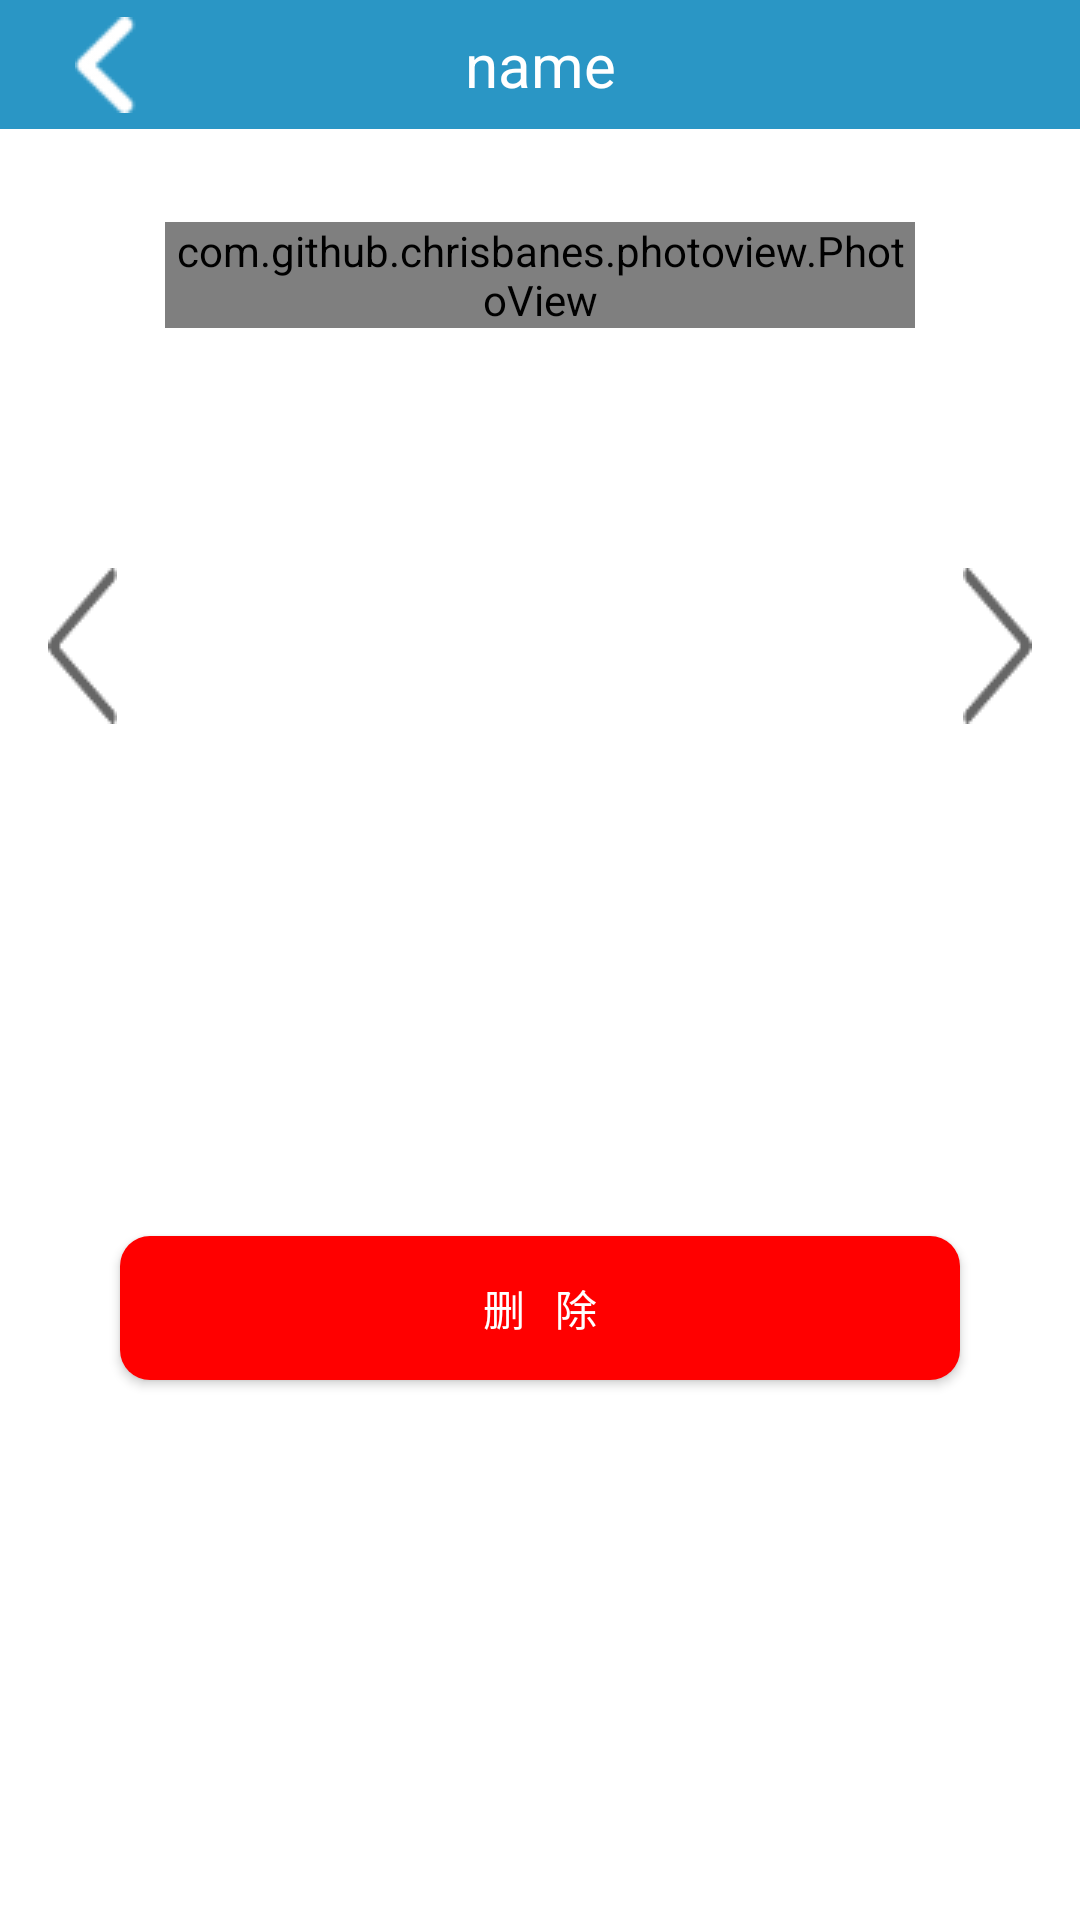

Screen size 1080 × 1920. Icon name, then its center in pixels as point (x, y):
arrow left: point (82, 646)
arrow right: point (997, 646)
